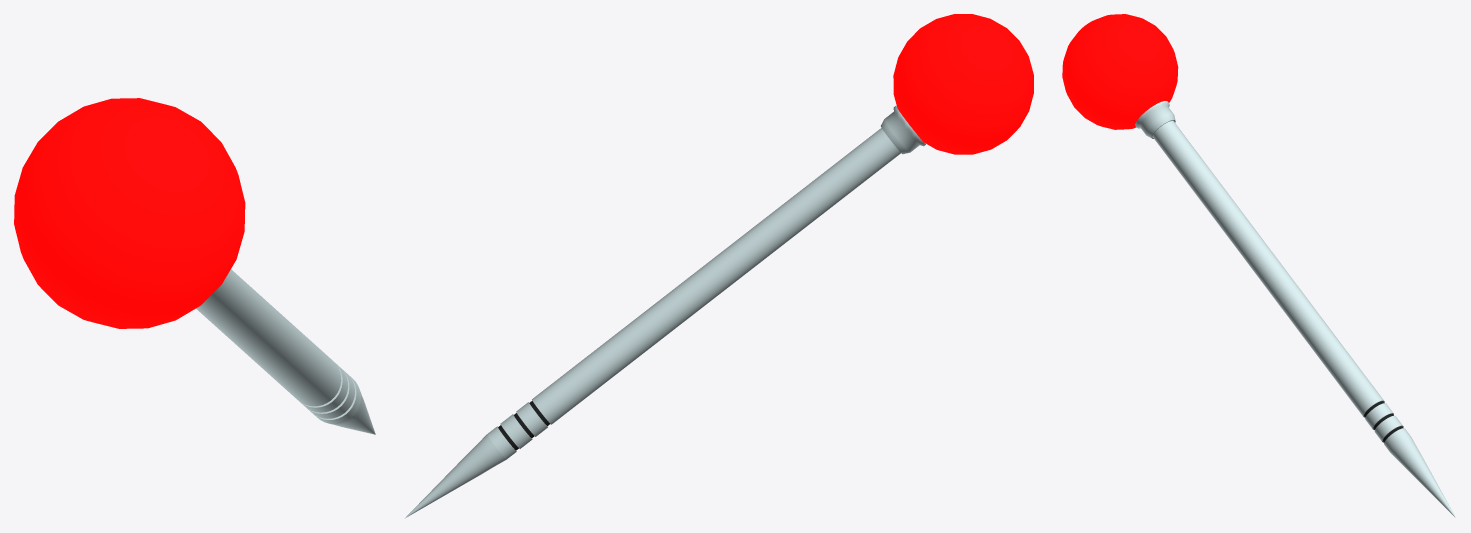
Rendered from push_pin.glb.
3 renders of one model, left to right at view 1: azimuth 30°, elevation 25°; view 2: azimuth 150°, elevation 25°; view 3: azimuth 270°, elevation 25°, orthographic. The views are drawn at different scales.
Parts seen in each view (by area): view 1: Sphere, Needle_2; view 2: Needle_2, Sphere, Ball_Holder_2; view 3: Needle_2, Sphere, Ball_Holder_2.
Part boxes in pixels (left/top/right/bottom): Sphere: left=14, top=98, right=245, bottom=328; Needle_2: left=196, top=269, right=375, bottom=434; Needle_2: left=405, top=128, right=900, bottom=518; Sphere: left=893, top=14, right=1033, bottom=154; Ball_Holder_2: left=881, top=105, right=926, bottom=154; Needle_2: left=1152, top=120, right=1455, bottom=517; Sphere: left=1062, top=14, right=1178, bottom=129; Ball_Holder_2: left=1135, top=101, right=1175, bottom=138.
Size of the model in its own units: 745 by 745 by 745.
